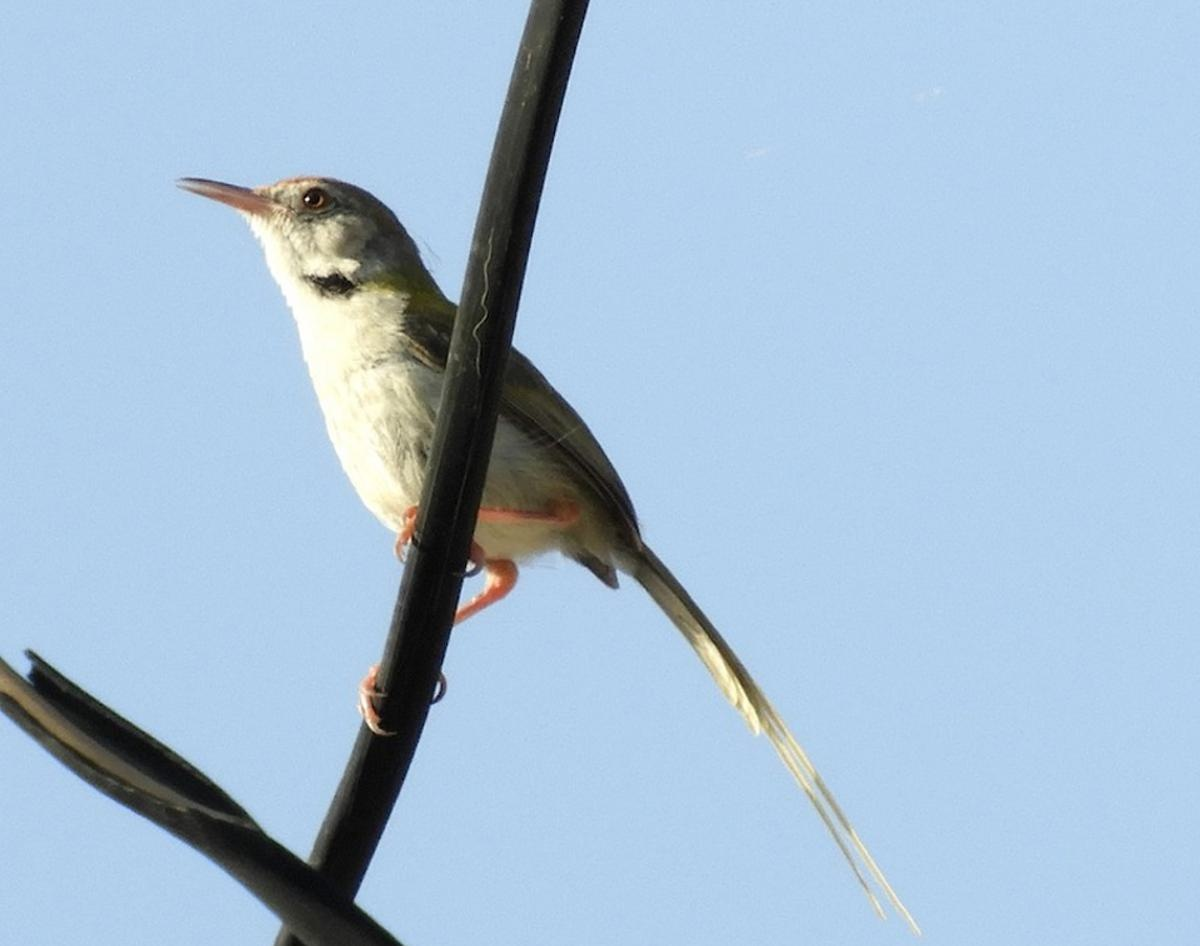tailorbird: (189, 161, 838, 802)
